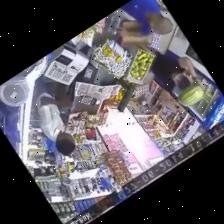person: (33, 75, 75, 155), (149, 46, 196, 106), (120, 0, 172, 36)
